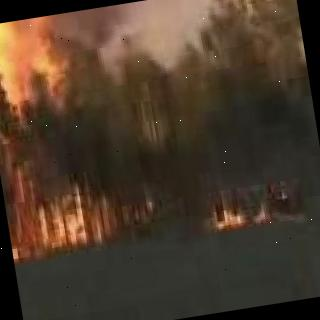fire: (0, 138, 140, 264), (0, 15, 65, 113), (202, 188, 278, 235)
